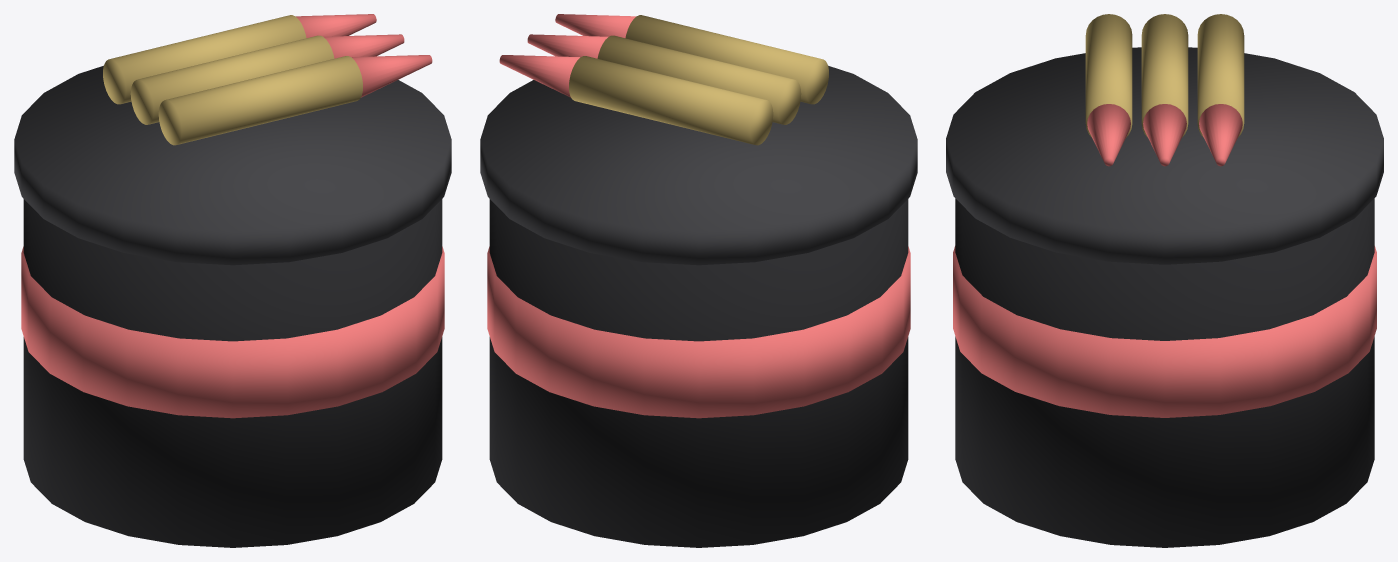
The model's file is SM_AmmoHP.glb.
The picture shows the model from 3 angles, left to right: view 1: azimuth 30°, elevation 25°; view 2: azimuth 150°, elevation 25°; view 3: azimuth 270°, elevation 25°; orthographic projection.
Visible parts, largest first — view 1: SM_AmmoHP; view 2: SM_AmmoHP; view 3: SM_AmmoHP.
Part boxes in pixels (box(x1,y1,x2,y2)): SM_AmmoHP: box(14, 14, 451, 547); SM_AmmoHP: box(480, 14, 917, 547); SM_AmmoHP: box(946, 14, 1383, 547).
Bounding box in the file's own units: 0.094 × 0.095 × 0.094.
